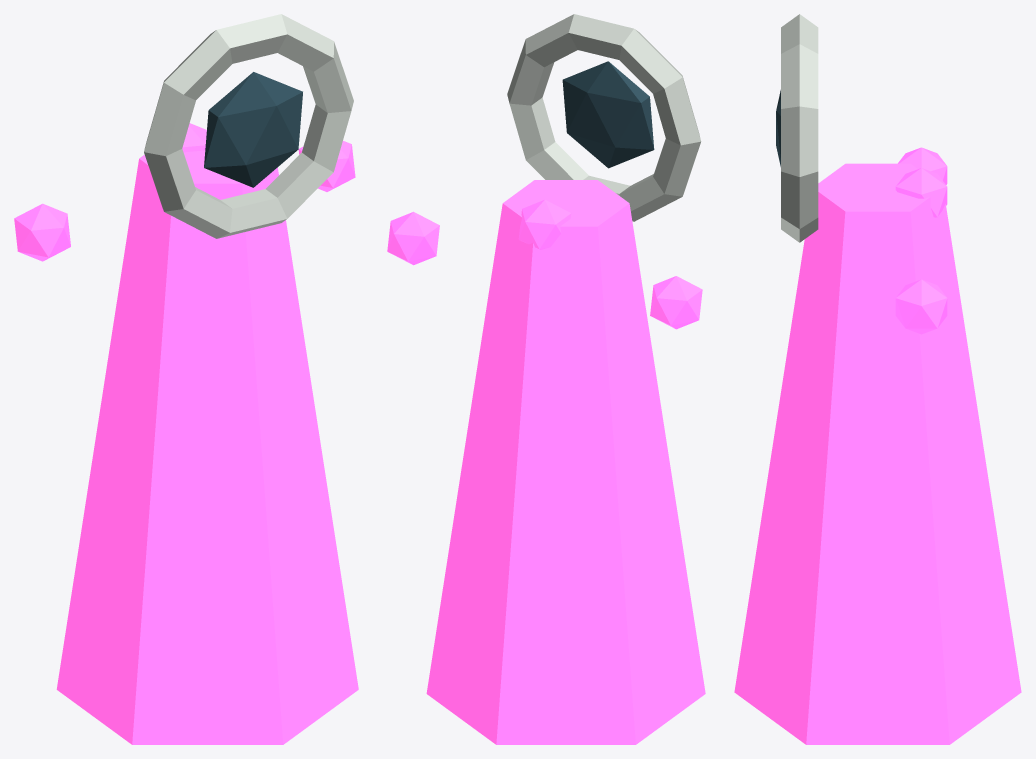
Rendered from murmur.glb.
3 renders of one model, left to right at view 1: azimuth 30°, elevation 25°; view 2: azimuth 150°, elevation 25°; view 3: azimuth 270°, elevation 25°, orthographic. The views are drawn at different scales.
Visible parts, largest first — view 1: Whisper body, Open mouth, Spoken absence, Orbit word 0, Orbit word 2; view 2: Whisper body, Open mouth, Spoken absence, Orbit word 2, Orbit word 0, Orbit word 1; view 3: Whisper body, Open mouth, Orbit word 2, Orbit word 1, Orbit word 0.
Part boxes in pixels (x1,y1,x2,y2): Whisper body: (56, 150, 358, 744); Open mouth: (144, 14, 353, 238); Spoken absence: (204, 72, 302, 187); Orbit word 0: (14, 203, 70, 261); Orbit word 2: (298, 140, 355, 191); Whisper body: (426, 180, 705, 744); Open mouth: (507, 14, 701, 221); Spoken absence: (562, 61, 654, 168); Orbit word 2: (387, 211, 439, 265); Orbit word 0: (650, 276, 702, 329); Orbit word 1: (518, 199, 571, 249); Whisper body: (734, 163, 1021, 744); Open mouth: (781, 14, 818, 242); Orbit word 2: (895, 279, 947, 334); Orbit word 1: (895, 168, 947, 217); Orbit word 0: (898, 147, 947, 184).
Bounding box in the file's own units: 0.8426 × 1.68 × 0.66.
